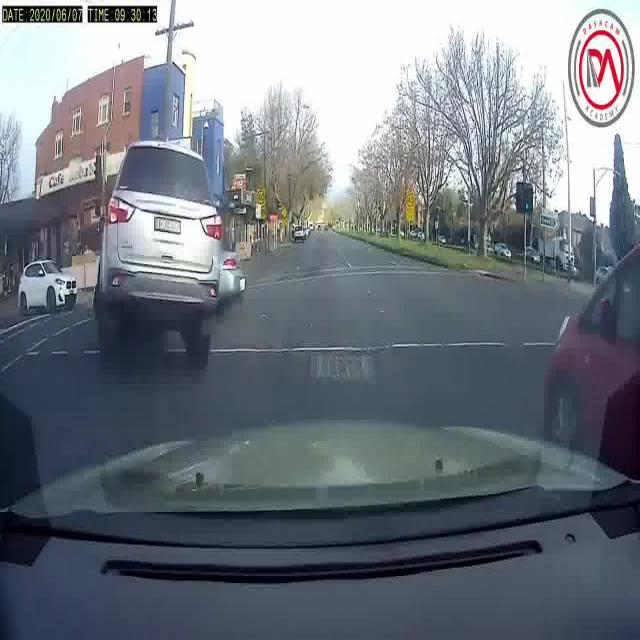Accident: (66, 138, 230, 360)
